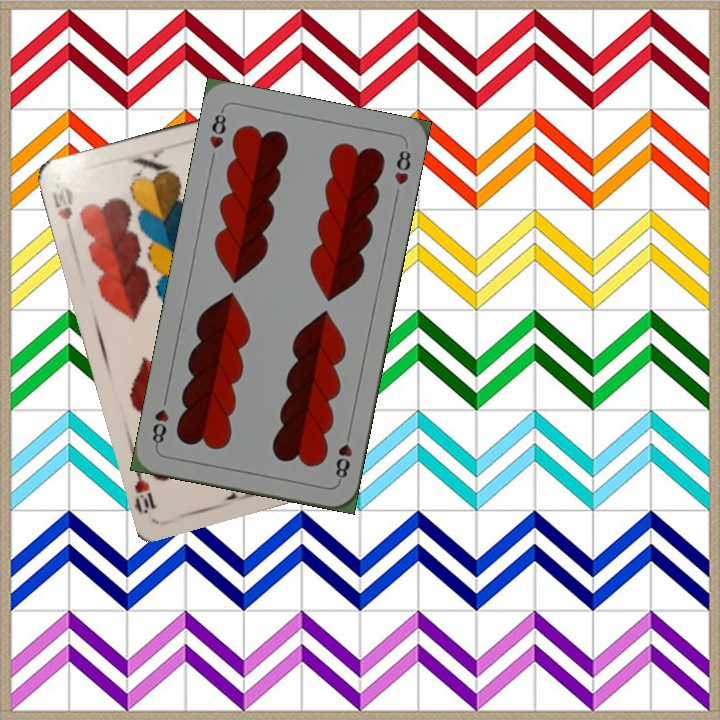H10: (48, 181, 75, 223)
H8: (331, 426, 355, 485), (205, 105, 229, 151)
